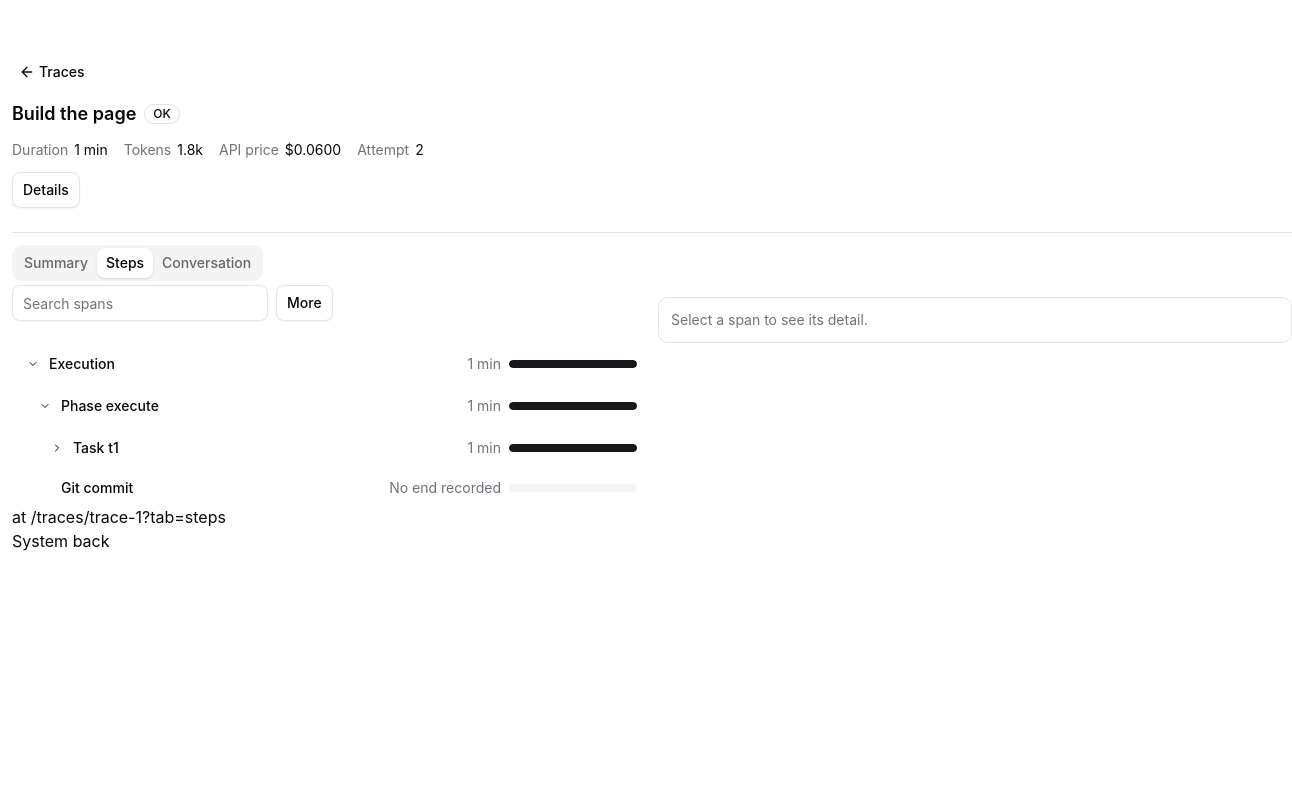
it: TraceScreen span detail › shows the detail of a clicked span in the panel on a large screen
expect the element named "Spans" is shown: met, box [12,345,646,505]
Click the list item "Task t1 1 min". click: (96, 448)
box: [73,439,637,456]
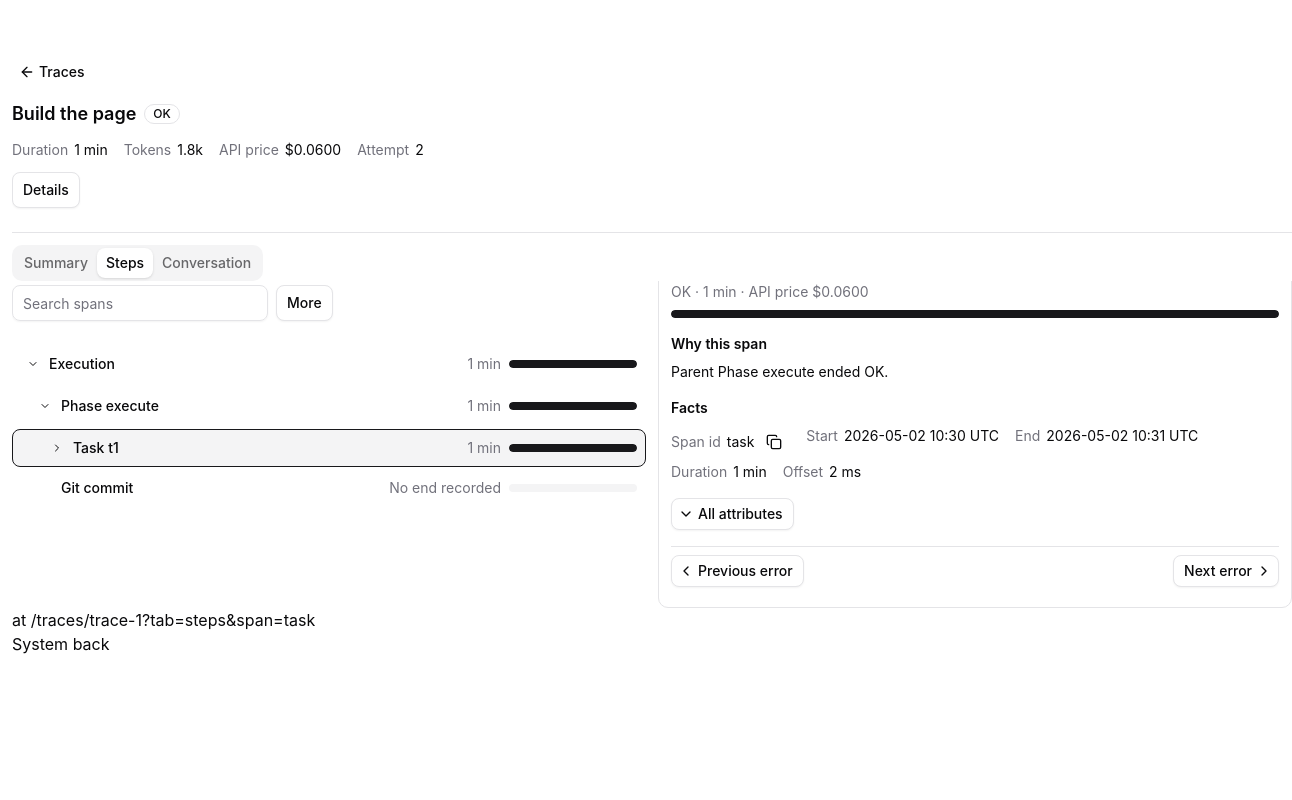
expect the text "Duration" in the row of "Offset" is shown: met, box [671,463,727,480]
